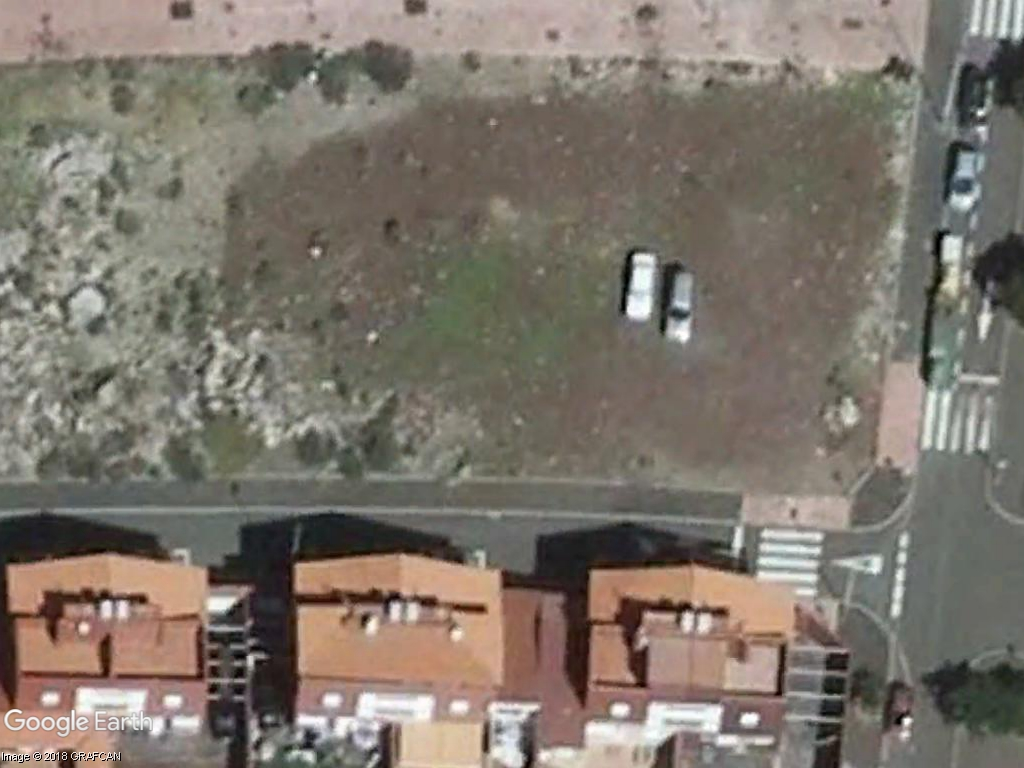car: (944, 135, 982, 216), (624, 244, 661, 327), (666, 259, 699, 348)
other: (925, 304, 960, 393), (955, 59, 995, 136)
